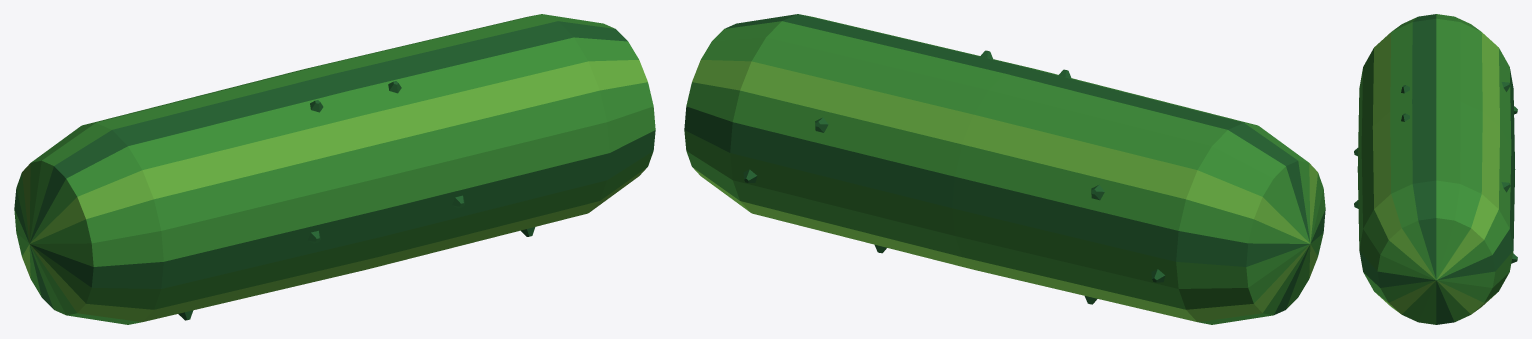
Rendered from okurka.glb.
The picture shows the model from 3 angles, left to right: view 1: azimuth 30°, elevation 25°; view 2: azimuth 150°, elevation 25°; view 3: azimuth 270°, elevation 25°; orthographic projection. The views are drawn at different scales.
Visible parts, largest first — view 1: half_b_cucumber_skin, half_a_cucumber_skin, half_b_cucumber_stripe, half_b_cucumber_light, half_a_cucumber_stripe, half_a_cucumber_light; view 2: half_b_cucumber_skin, half_a_cucumber_skin, half_b_cucumber_stripe, half_b_cucumber_light, half_a_cucumber_stripe, half_a_cucumber_light; view 3: half_a_cucumber_skin, half_b_cucumber_skin, half_a_cucumber_light, half_a_cucumber_stripe, half_b_cucumber_light, half_b_cucumber_stripe.
Boxes of the visible parts, x1=… form: half_b_cucumber_skin: x1=14, y1=66, x2=387, y2=324; half_a_cucumber_skin: x1=308, y1=14, x2=655, y2=256; half_b_cucumber_stripe: x1=14, y1=73, x2=387, y2=320; half_b_cucumber_light: x1=22, y1=114, x2=377, y2=322; half_a_cucumber_stripe: x1=335, y1=21, x2=655, y2=236; half_a_cucumber_light: x1=366, y1=60, x2=647, y2=269; half_b_cucumber_skin: x1=952, y1=66, x2=1325, y2=324; half_a_cucumber_skin: x1=684, y1=15, x2=1031, y2=256; half_b_cucumber_stripe: x1=952, y1=66, x2=1325, y2=314; half_b_cucumber_light: x1=962, y1=114, x2=1317, y2=322; half_a_cucumber_stripe: x1=684, y1=14, x2=1020, y2=253; half_a_cucumber_light: x1=692, y1=60, x2=973, y2=269; half_a_cucumber_skin: x1=1357, y1=98, x2=1513, y2=324; half_b_cucumber_skin: x1=1357, y1=14, x2=1511, y2=168; half_a_cucumber_light: x1=1372, y1=112, x2=1499, y2=314; half_a_cucumber_stripe: x1=1354, y1=98, x2=1517, y2=324; half_b_cucumber_light: x1=1372, y1=32, x2=1499, y2=127; half_b_cucumber_stripe: x1=1354, y1=14, x2=1517, y2=167.
Bounding box in the file's own units: 0.5 × 0.15 × 0.1562.
